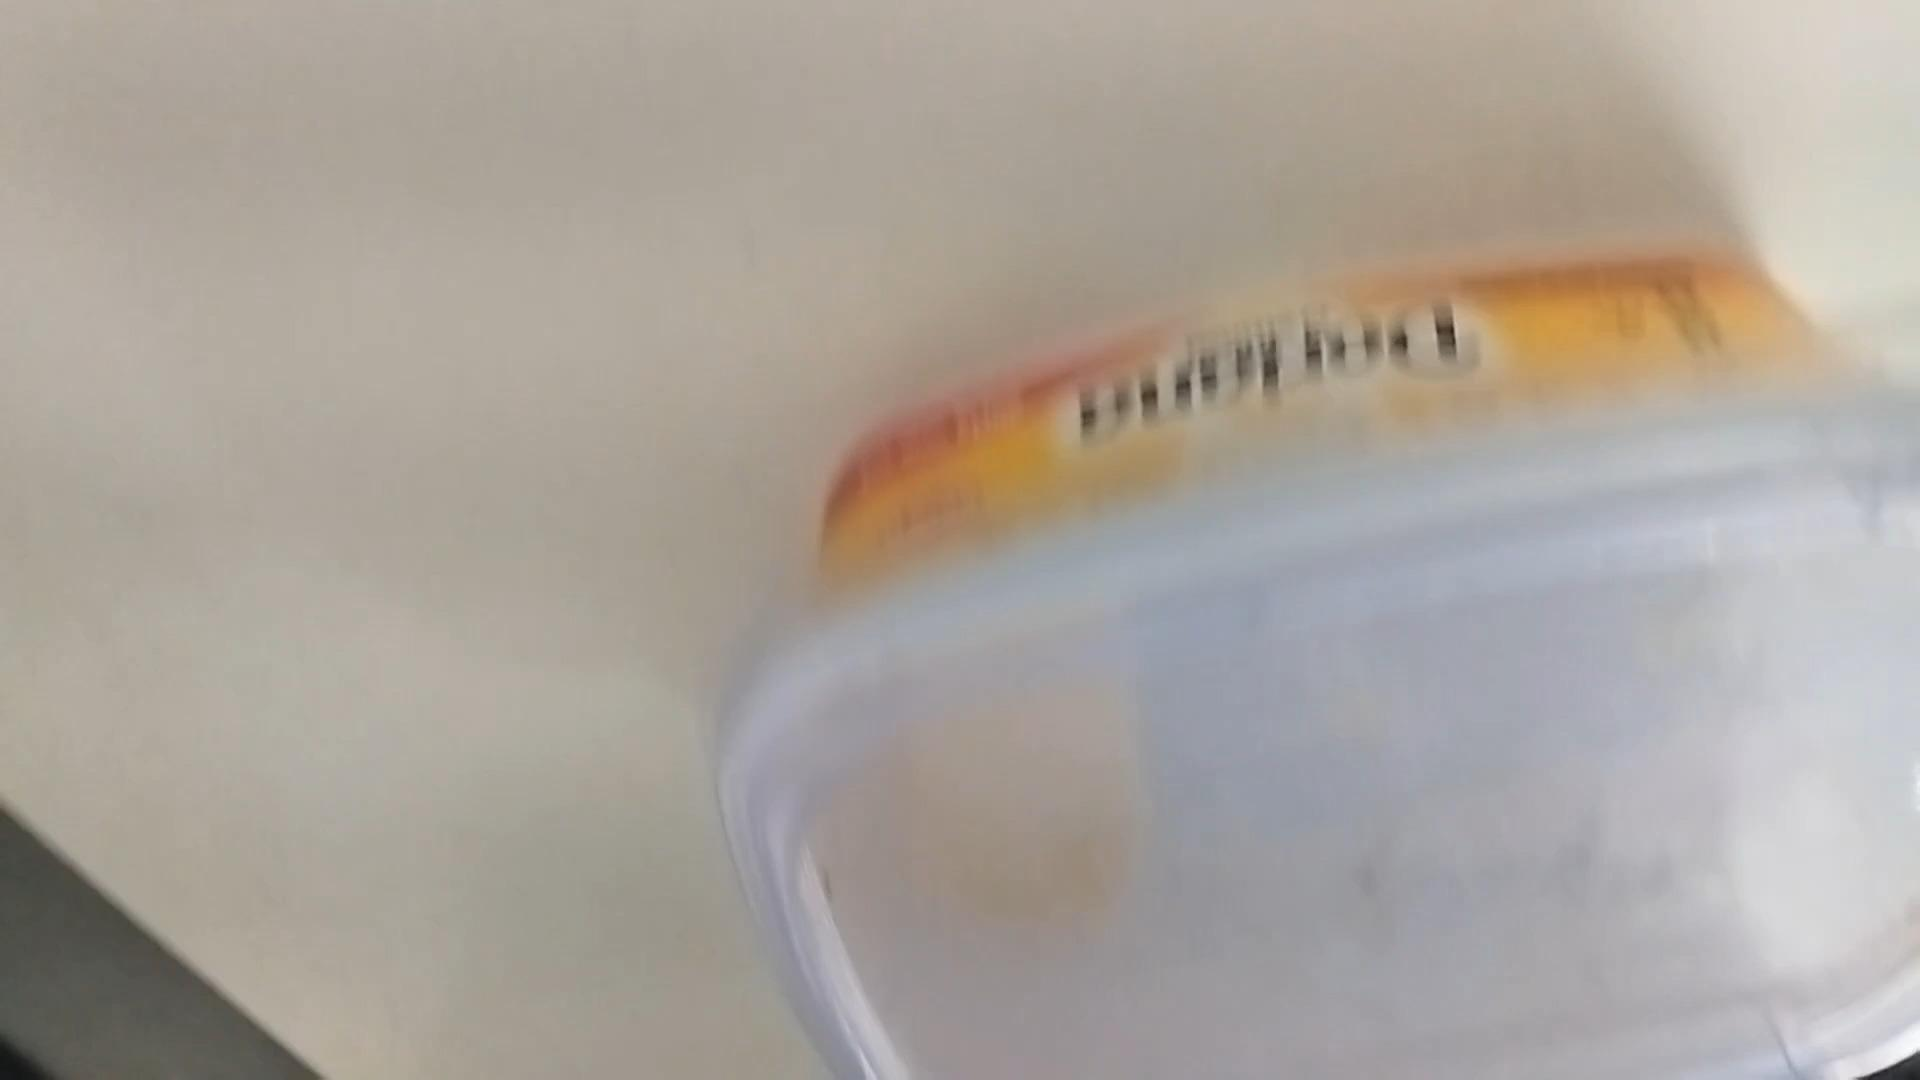butter: (721, 258, 1919, 1077)
